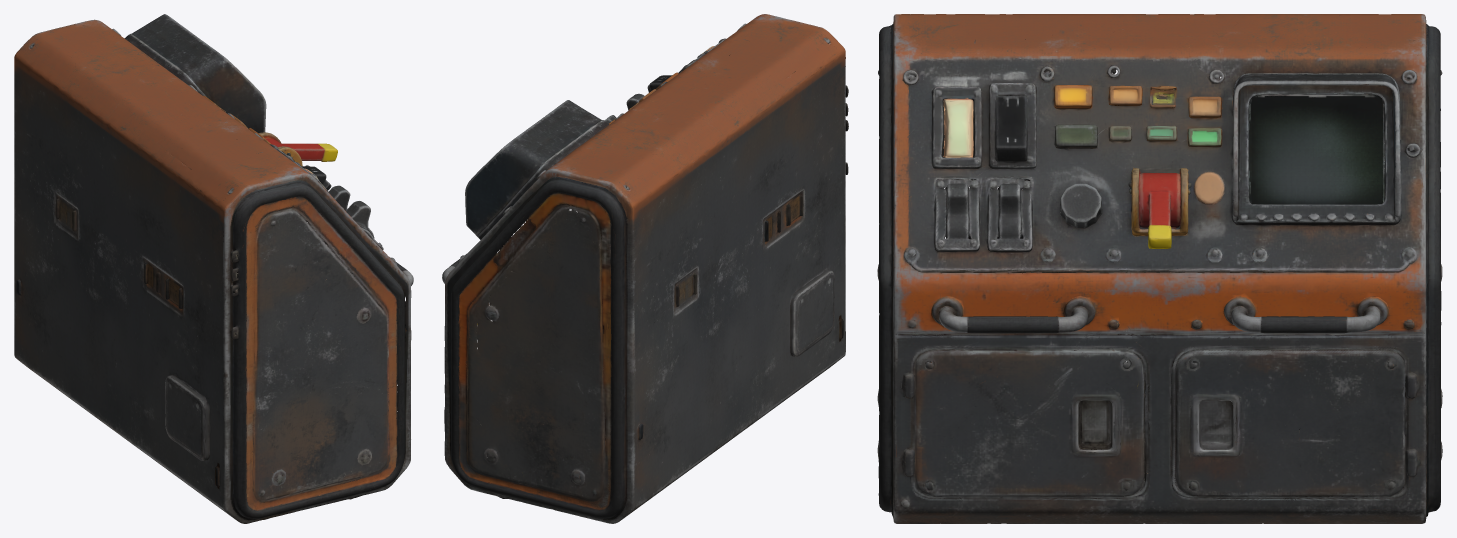
File: relay-control-console.glb
3 renders of one model, left to right at view 1: azimuth 30°, elevation 25°; view 2: azimuth 150°, elevation 25°; view 3: azimuth 270°, elevation 25°, orthographic. The views are drawn at different scales.
Parts seen in each view (by area): view 1: geom0; view 2: geom0; view 3: geom0.
Boxes of the visible parts, x1=… form: geom0: x1=14, y1=14, x2=413, y2=523; geom0: x1=442, y1=14, x2=848, y2=523; geom0: x1=877, y1=14, x2=1442, y2=523.
Size of the model in its own units: 0.5686 by 0.8441 by 1.
1 material, 1 textured.
